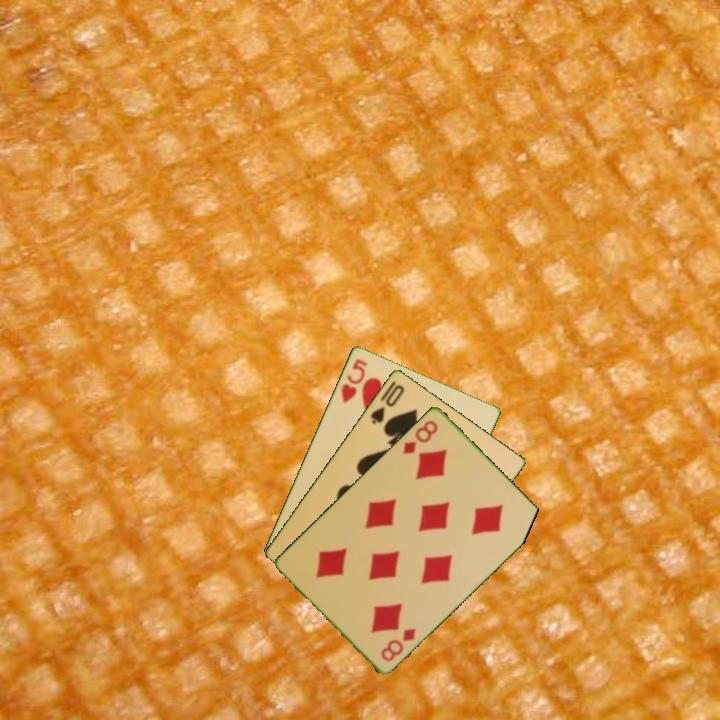10s: (367, 380, 407, 427)
5h: (337, 355, 370, 406)
8d: (399, 416, 441, 457), (377, 624, 419, 664)
